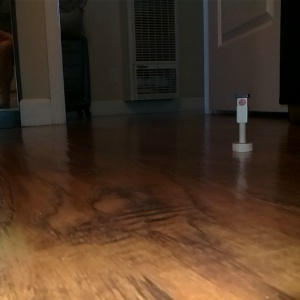traffic light red: (231, 91, 254, 153)
